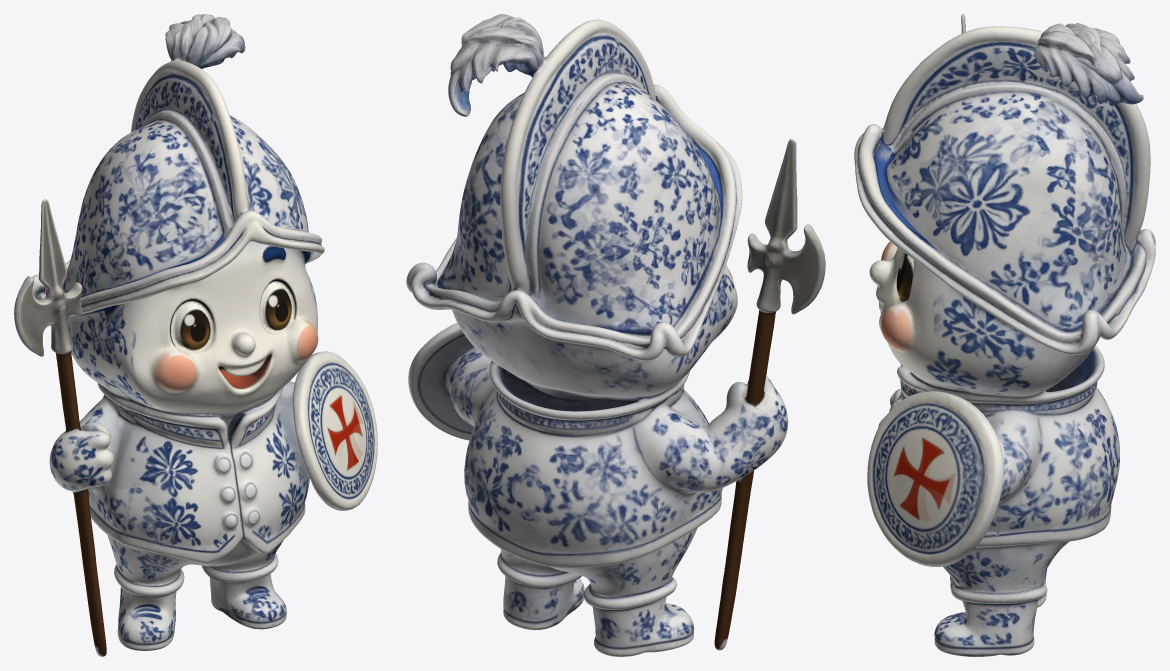
File: soldier_meshy.glb
3 renders of one model, left to right at view 1: azimuth 30°, elevation 25°; view 2: azimuth 150°, elevation 25°; view 3: azimuth 270°, elevation 25°, orthographic. The views are drawn at different scales.
Bounding box in the file's own units: 1.29 × 1.9 × 0.8389.
Materials: 1 (1 with a texture image).
